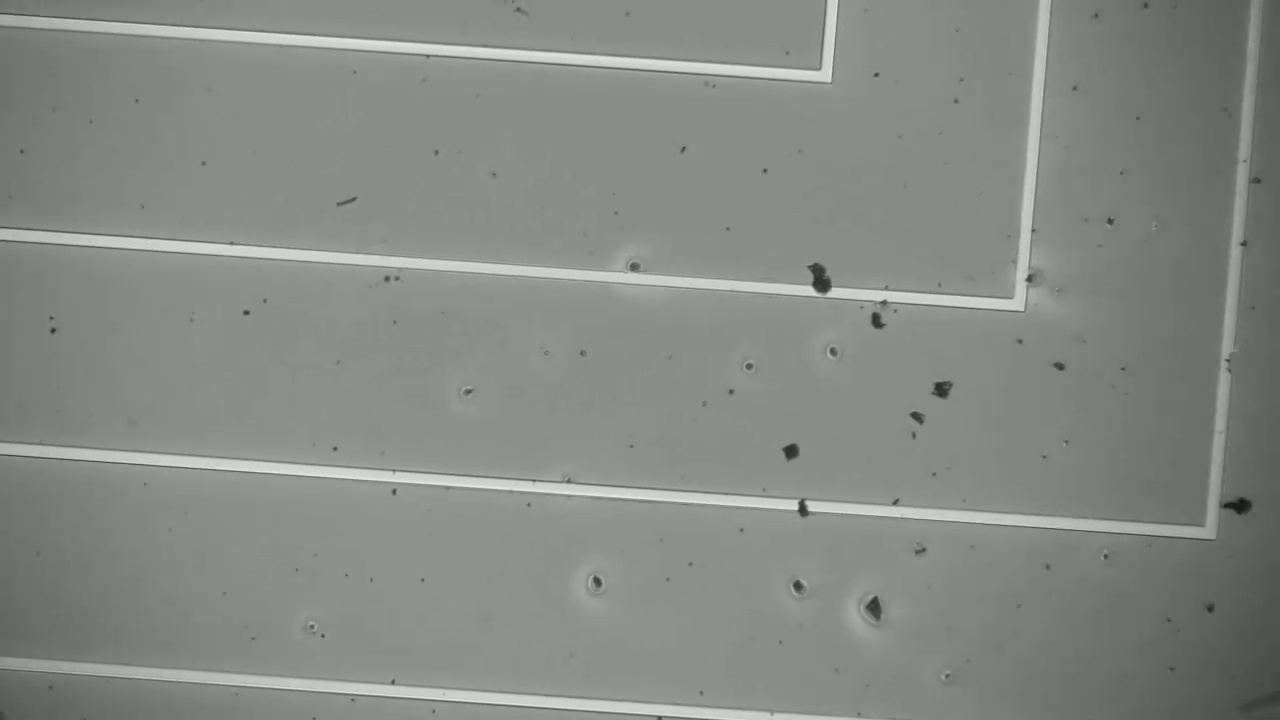edge_bite: (1205, 340, 1244, 382)
stains_enbedded: (792, 249, 837, 304), (792, 495, 817, 528)
